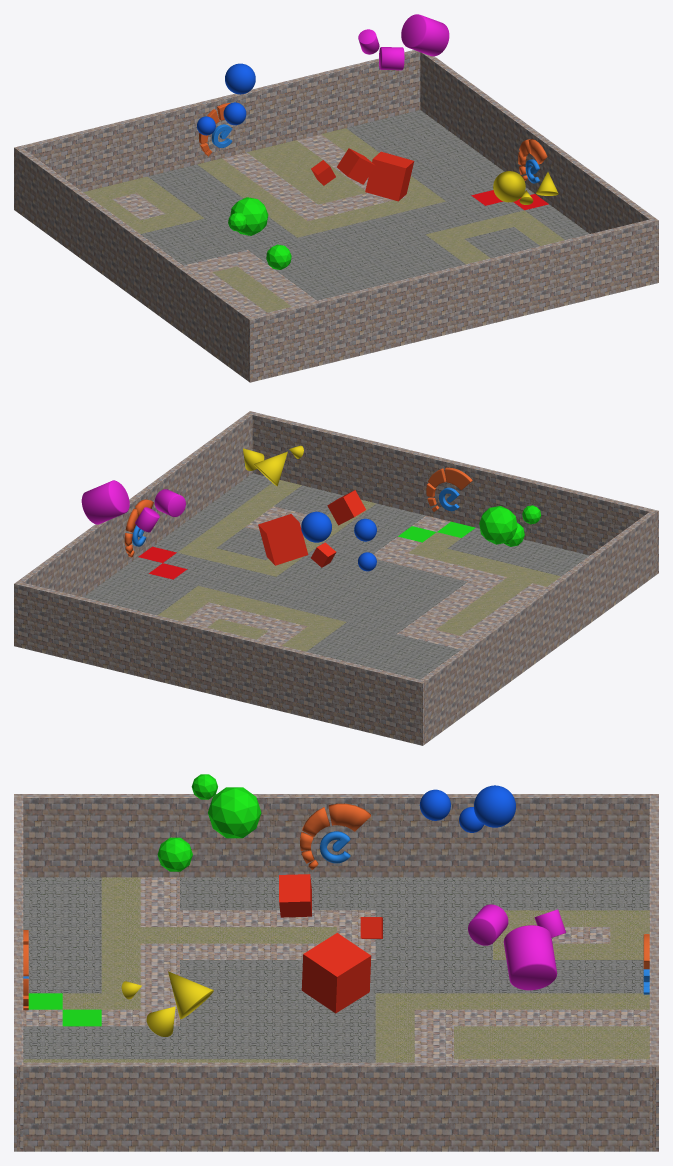
3 views of the same model, one above another, from view 1: azimuth 30°, elevation 25°; view 2: azimuth 150°, elevation 25°; view 3: azimuth 270°, elevation 25° (orthographic). The views are drawn at different scales.
Parts seen in each view (by area): view 1: CubeStaticGround, CubeStaticWall.002, CubeStaticWall.000, CubeStaticWall.001, CubeStaticWall.003, Cube.000, Cylinder.002, Icosphere.001, ecclogo.003, Cone.001, Cube.002, Sphere.001 (+2 smaller); view 2: CubeStaticGround, CubeStaticWall.000, CubeStaticWall.002, CubeStaticWall.001, CubeStaticWall.003, Cube.000, Cylinder.002, ecclogo.002, Icosphere.001, Cube.002, Sphere.001, ecclogo.003 (+2 smaller); view 3: CubeStaticGround, CubeStaticWall.003, CubeStaticWall.001, Cube.000, CubeStaticWall.000, CubeStaticWall.002, Cylinder.002, ecclogo.000, Icosphere.001, Sphere.001, Cube.002, Cylinder.001 (+4 smaller).
Part boxes in pixels (x1,y1,x2,y2): CubeStaticGround: (83, 110, 589, 316); CubeStaticWall.002: (246, 218, 658, 382); CubeStaticWall.000: (14, 50, 420, 211); CubeStaticWall.001: (17, 148, 252, 379); CubeStaticWall.003: (420, 52, 654, 233); Cube.000: (365, 151, 414, 201); Cylinder.002: (401, 14, 449, 56); Icosphere.001: (230, 197, 268, 235); ecclogo.003: (518, 139, 547, 183); Cone.001: (493, 171, 525, 202); Cube.002: (337, 148, 375, 184); Sphere.001: (225, 63, 255, 94); CubeStaticGround: (83, 473, 589, 679); CubeStaticWall.000: (14, 581, 426, 745); CubeStaticWall.002: (247, 411, 658, 574); CubeStaticWall.001: (421, 512, 655, 742); CubeStaticWall.003: (18, 413, 252, 597); Cube.000: (258, 514, 308, 565); Cylinder.002: (81, 480, 129, 524); ecclogo.002: (426, 467, 472, 511); Icosphere.001: (479, 506, 517, 544); Cube.002: (327, 490, 365, 525); Sphere.001: (301, 511, 331, 542); ecclogo.003: (124, 499, 153, 557); CubeStaticGround: (23, 877, 649, 1062); CubeStaticWall.003: (23, 1062, 649, 1151); CubeStaticWall.001: (23, 794, 649, 877); Cube.000: (301, 933, 371, 1013); CubeStaticWall.000: (649, 794, 658, 1151); CubeStaticWall.002: (14, 794, 23, 1151); Cylinder.002: (503, 925, 557, 990); ecclogo.000: (300, 803, 370, 869); Icosphere.001: (208, 787, 261, 838); Sphere.001: (474, 785, 515, 827); Cube.002: (279, 874, 311, 917); Cylinder.001: (468, 904, 508, 945).
Bounding box in the file's own units: 41.2 × 14.28 × 41.2.
22 materials, 3 textured.
